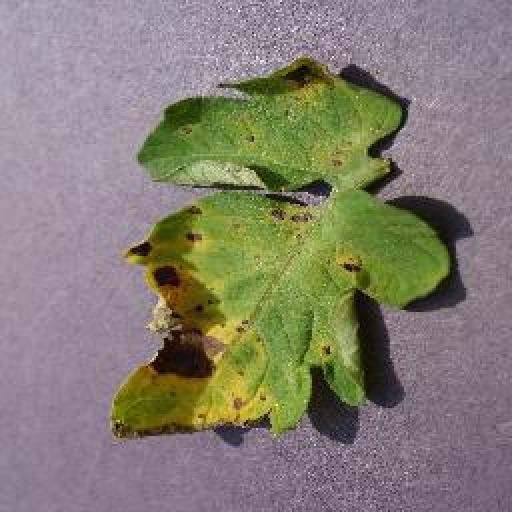Septoria: (108, 54, 451, 442)
